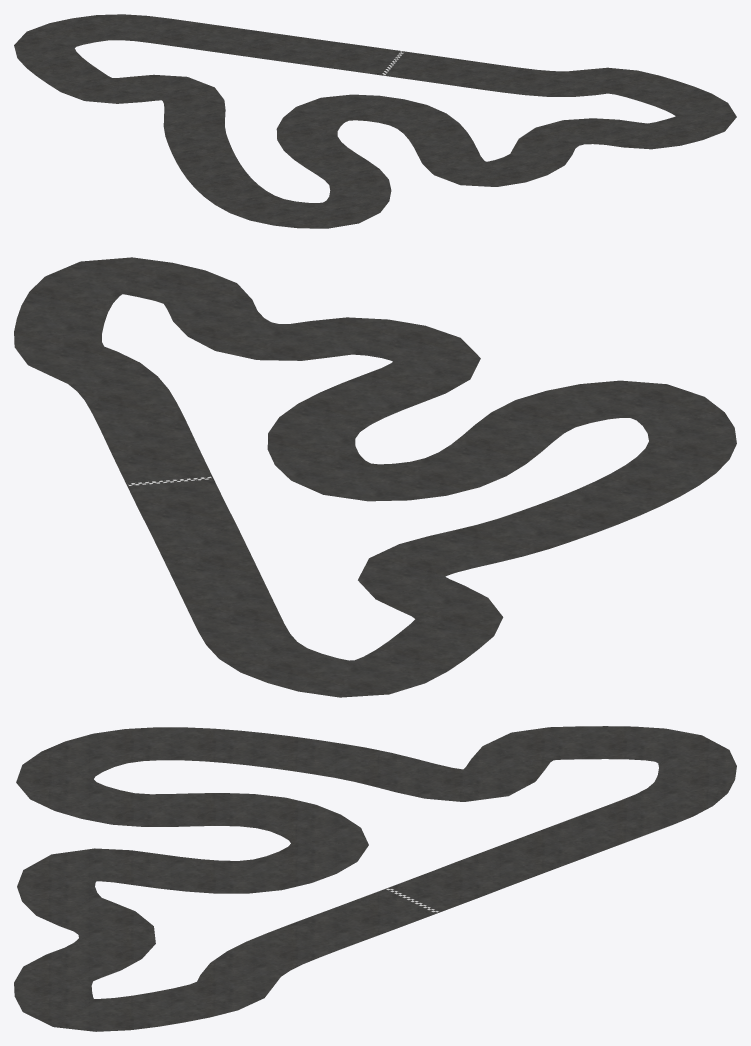
The model's file is core.dae.
The picture shows the model from 3 angles, top to bottom: view 1: azimuth 30°, elevation 25°; view 2: azimuth 150°, elevation 25°; view 3: azimuth 270°, elevation 25°; orthographic projection. The views are drawn at different scales.
Visible parts, largest first — view 1: road; view 2: road; view 3: road.
Part boxes in pixels (x1,y1,x2,y2): road: (14, 14, 736, 228); road: (14, 257, 736, 697); road: (14, 726, 736, 1031).
Size of what is drawn, in the model's own units: 8.8 by 8.8 by 0.0015.
2 materials, 2 textured.
